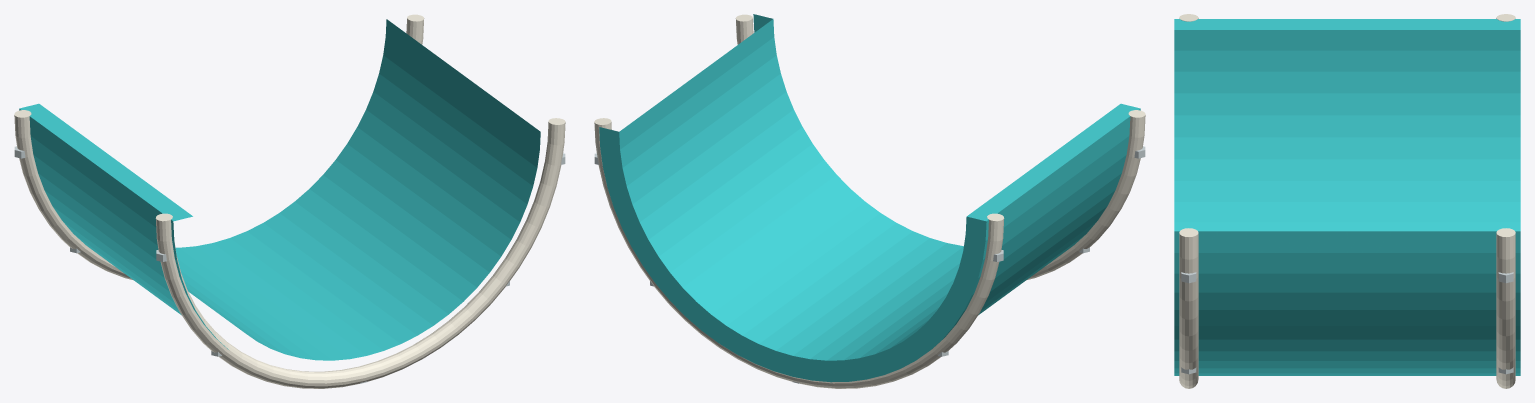
File: waterpark-and-pool-operations-waterpark-and-pool-opera-9dca3066__28957.glb
3 views of the same model, side by side, from view 1: azimuth 30°, elevation 25°; view 2: azimuth 150°, elevation 25°; view 3: azimuth 270°, elevation 25° (orthographic). The views are drawn at different scales.
Parts seen in each view (by area): view 1: waterpark-and-pool-operations-slide-entry; view 2: waterpark-and-pool-operations-slide-entry; view 3: waterpark-and-pool-operations-slide-entry.
Boxes of the visible parts, x1,y1,x2,y2 form: waterpark-and-pool-operations-slide-entry: [14, 14, 565, 388]; waterpark-and-pool-operations-slide-entry: [594, 14, 1145, 388]; waterpark-and-pool-operations-slide-entry: [1174, 14, 1520, 388].
Size of the model in its own units: 1.53 by 0.7644 by 1.
